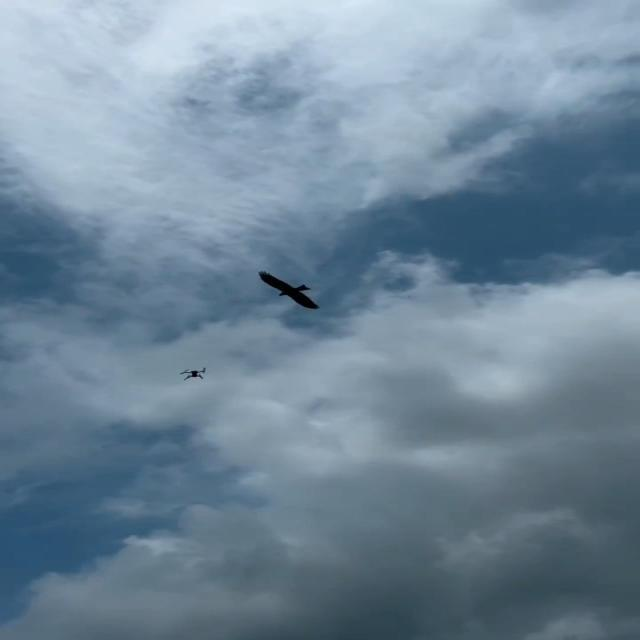bird: (257, 270, 319, 310)
drone: (178, 367, 206, 380)
